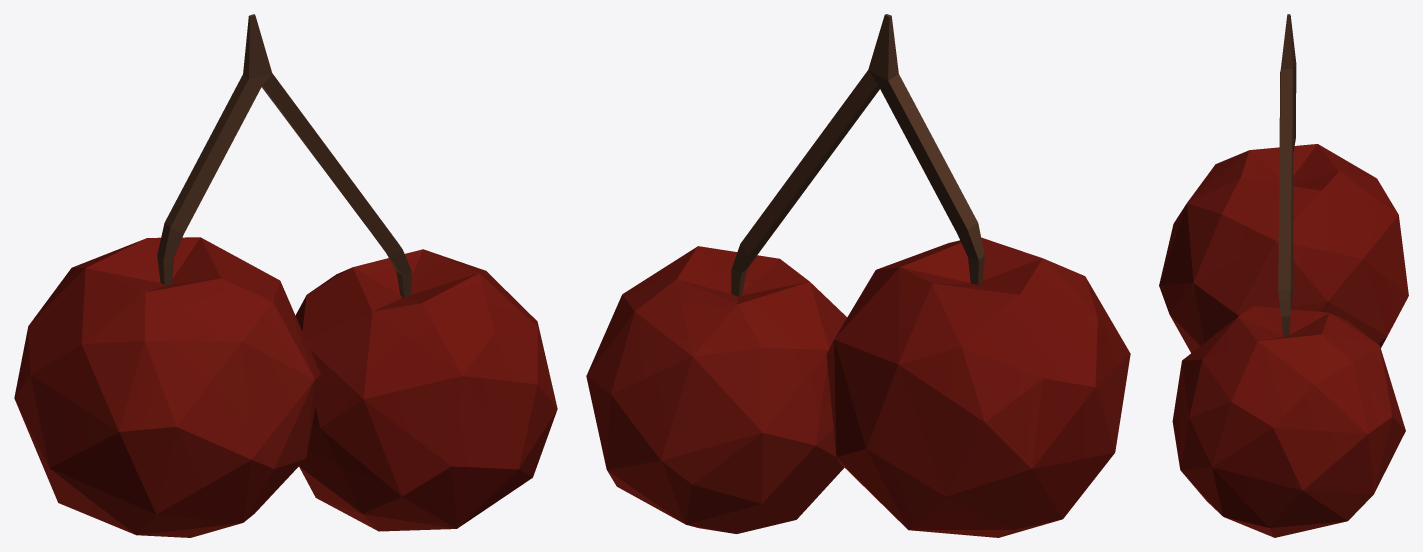
The model's file is vishna.fbx.
3 views of the same model, side by side, from view 1: azimuth 30°, elevation 25°; view 2: azimuth 150°, elevation 25°; view 3: azimuth 270°, elevation 25° (orthographic). The views are drawn at different scales.
Visible parts, largest first — view 1: Cube.003; view 2: Cube.003; view 3: Cube.003.
Part boxes in pixels (x1,y1,x2,y2): Cube.003: (14, 14, 557, 537); Cube.003: (586, 14, 1130, 537); Cube.003: (1159, 14, 1408, 537).
Bounding box in the file's own units: 45.44 × 47.05 × 24.02.
